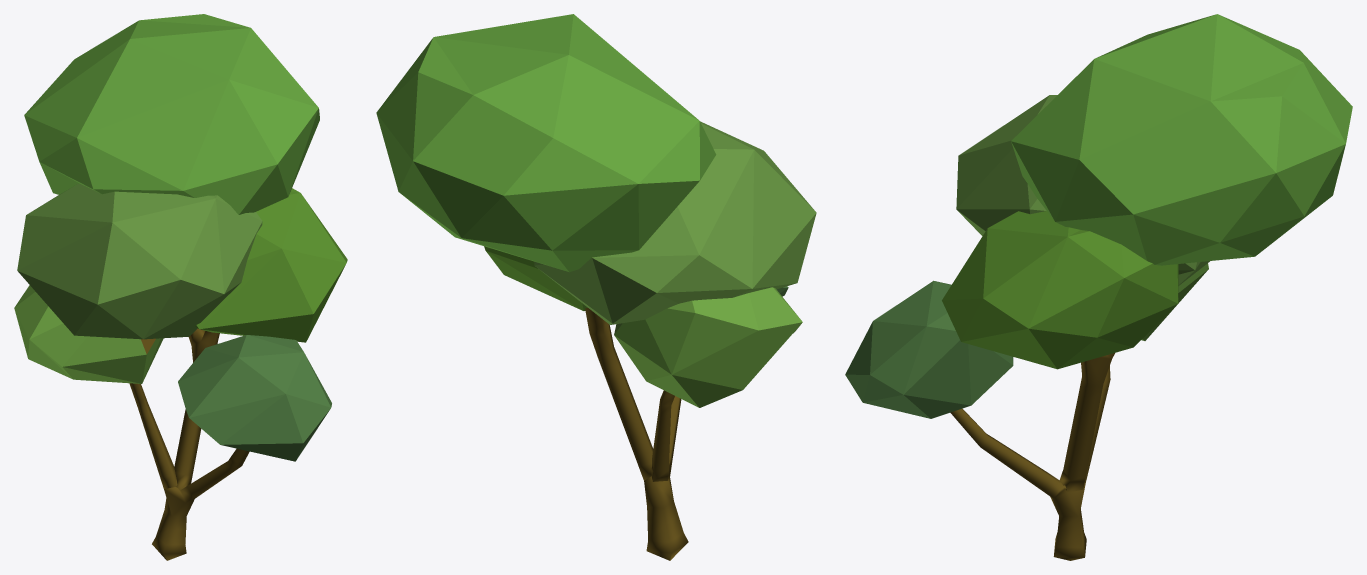
The model's file is E_Bush01.fbx.
3 renders of one model, left to right at view 1: azimuth 30°, elevation 25°; view 2: azimuth 150°, elevation 25°; view 3: azimuth 270°, elevation 25°, orthographic. The views are drawn at different scales.
Parts seen in each view (by area): view 1: Cube.043; view 2: Cube.043; view 3: Cube.043.
Part boxes in pixels (bbox=[...]): Cube.043: bbox=[14, 14, 347, 560]; Cube.043: bbox=[376, 14, 816, 560]; Cube.043: bbox=[845, 14, 1352, 560].
Size of the model in its own units: 130 by 192 by 158.
